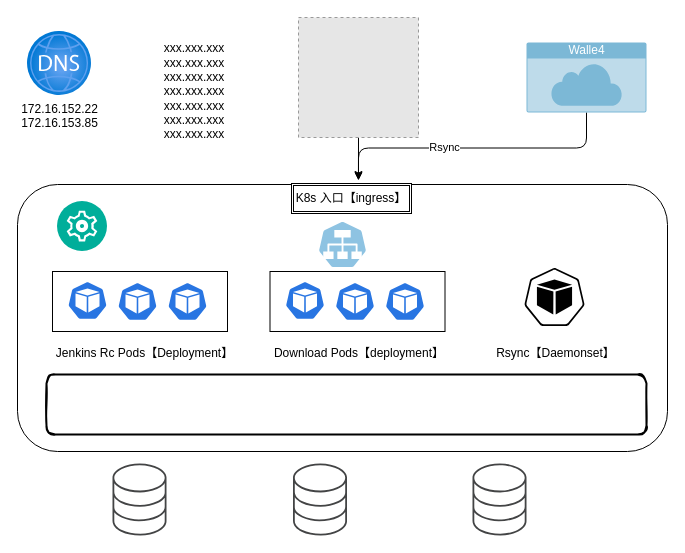
Image size: 685x553. Some labels were removed from this diagram. Grey dashed boxes stand in for pictures. The shapes that lost their labels are listed below. From the top down, each one's centre as x and y in pixels, then its label:
At point (342, 244): "【SVC】".
At point (346, 404): "存储【NFS】".
